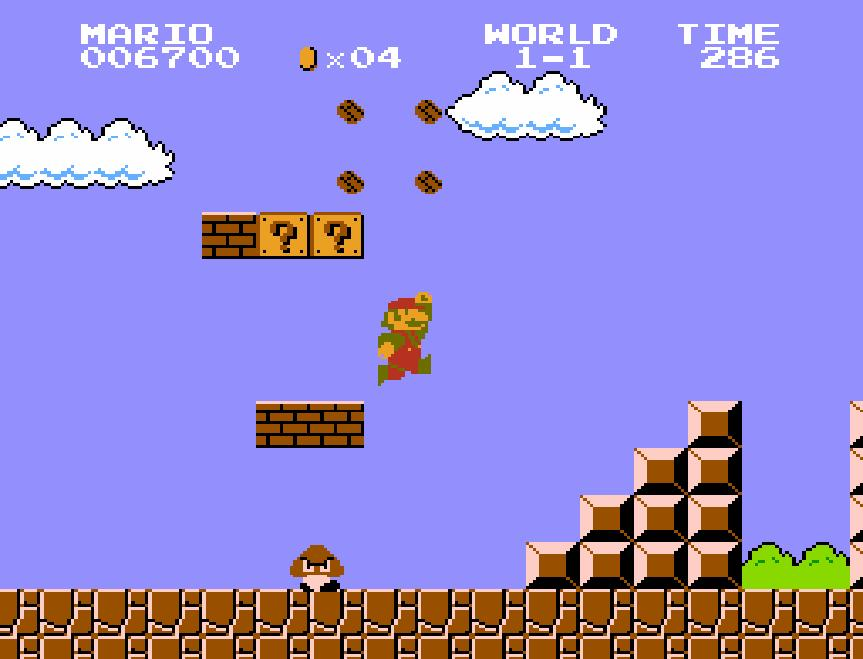big_mario: (376, 289, 434, 388)
